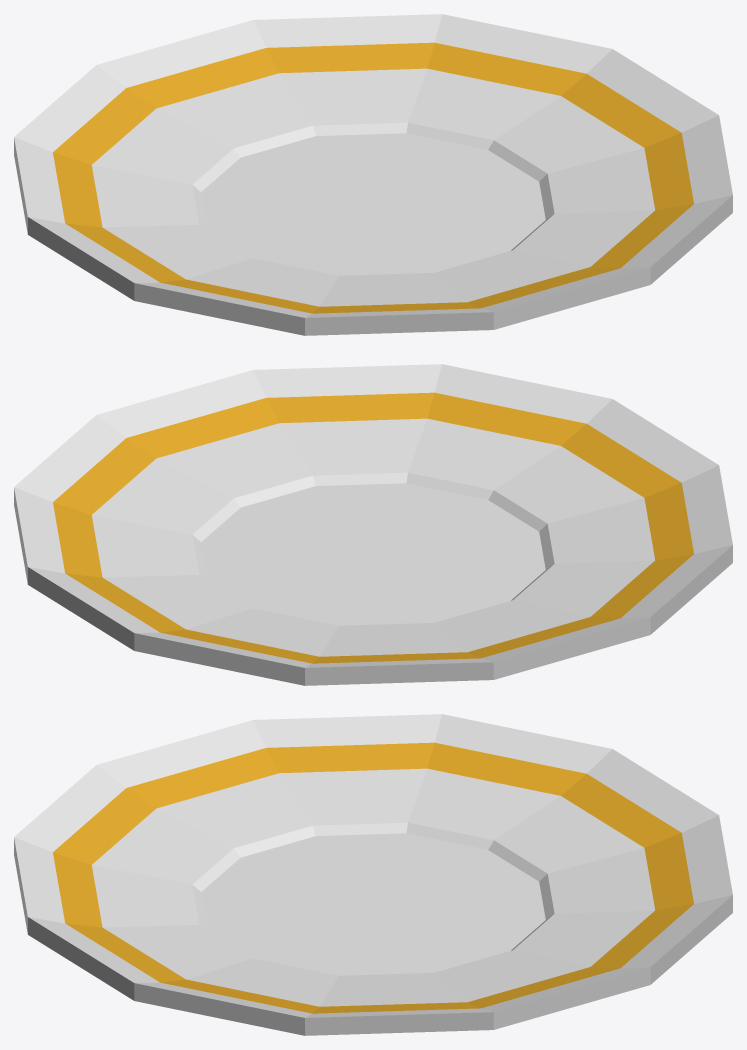
File: C_Plate_Big_2.fbx
3 views of the same model, one above another, from view 1: azimuth 30°, elevation 25°; view 2: azimuth 150°, elevation 25°; view 3: azimuth 270°, elevation 25° (orthographic).
Parts seen in each view (by area): view 1: C_Plate_Big_2; view 2: C_Plate_Big_2; view 3: C_Plate_Big_2.
Part boxes in pixels (bbox=[...]): C_Plate_Big_2: bbox=[14, 14, 732, 335]; C_Plate_Big_2: bbox=[14, 364, 732, 685]; C_Plate_Big_2: bbox=[14, 714, 732, 1035].
Size of the model in its own units: 154 by 154 by 14.67.
